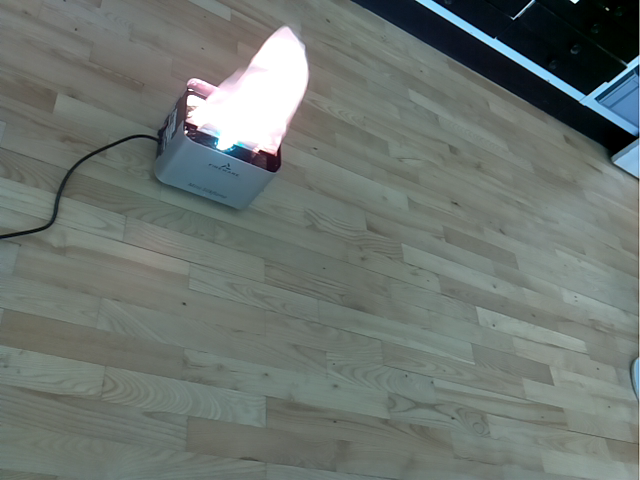fire: (184, 24, 308, 156)
